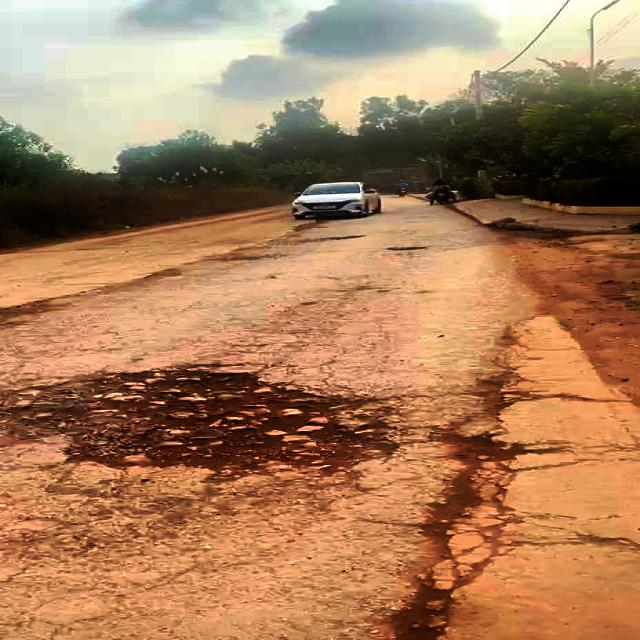pothole: (0, 362, 411, 469), (432, 414, 518, 566), (386, 576, 477, 640)
